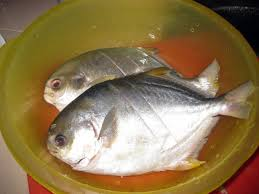Ikan Bawal: (37, 69, 256, 173)
